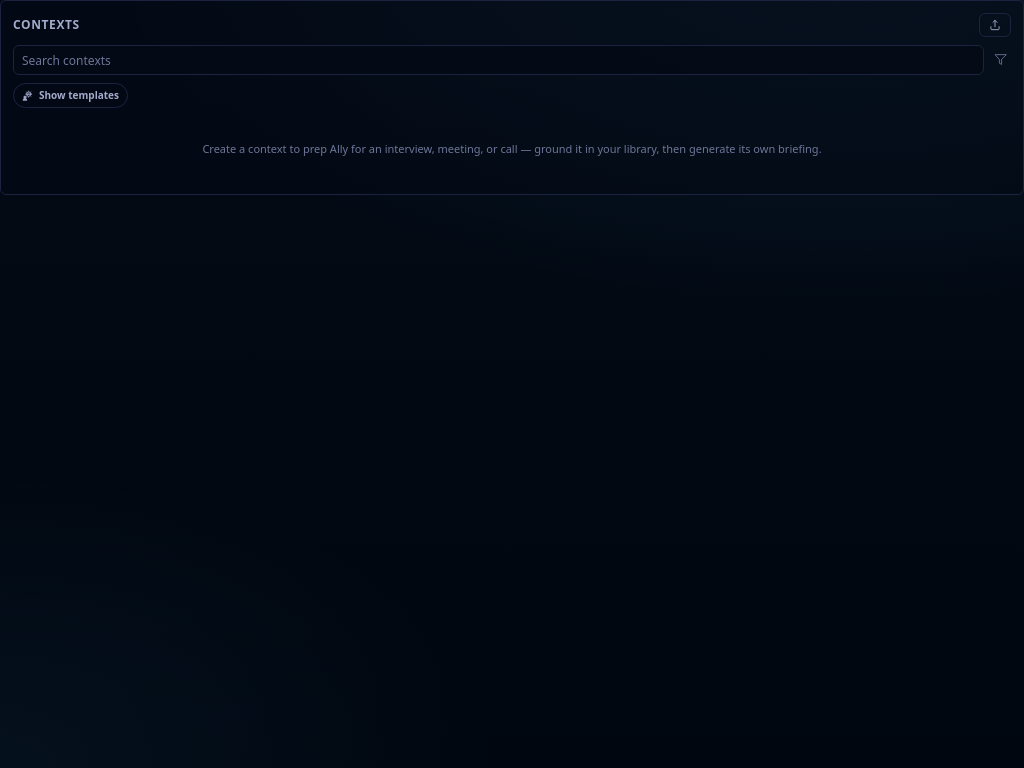
ContextsPane › the Default context shows Regenerate but hides Edit and Delete
Click the button "Show templates": click(70, 96) left=13, top=83, right=128, bottom=108
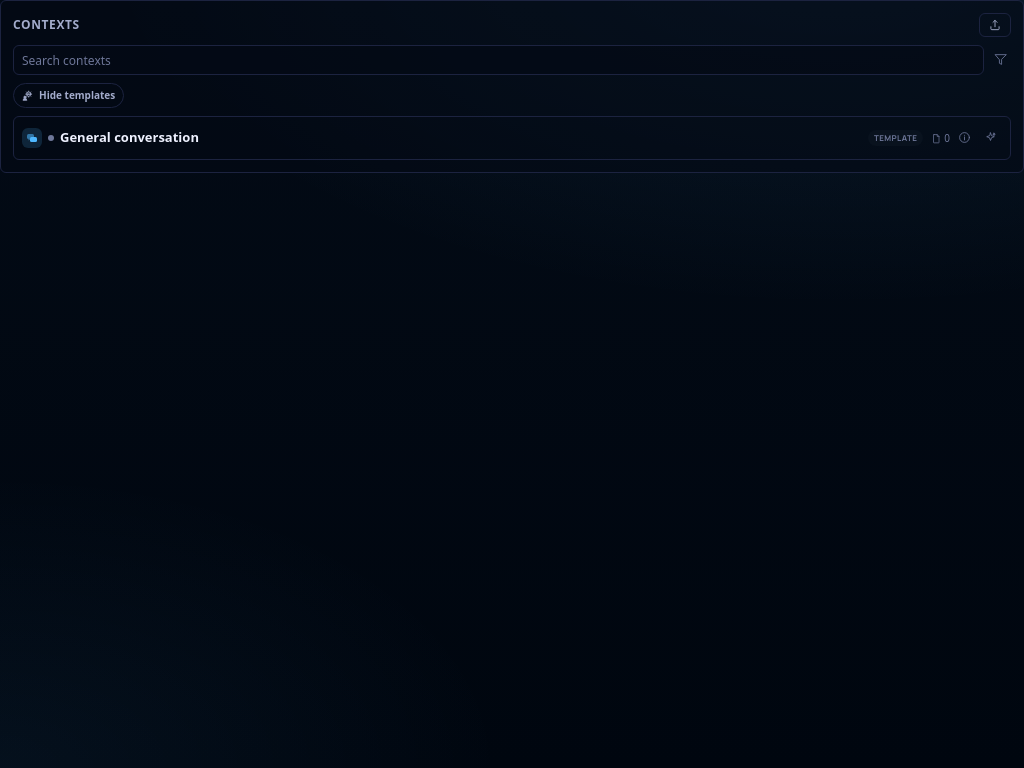
Check: the button named "generate resources for general conversation" is enabled, box left=977, top=121, right=1004, bottom=155
